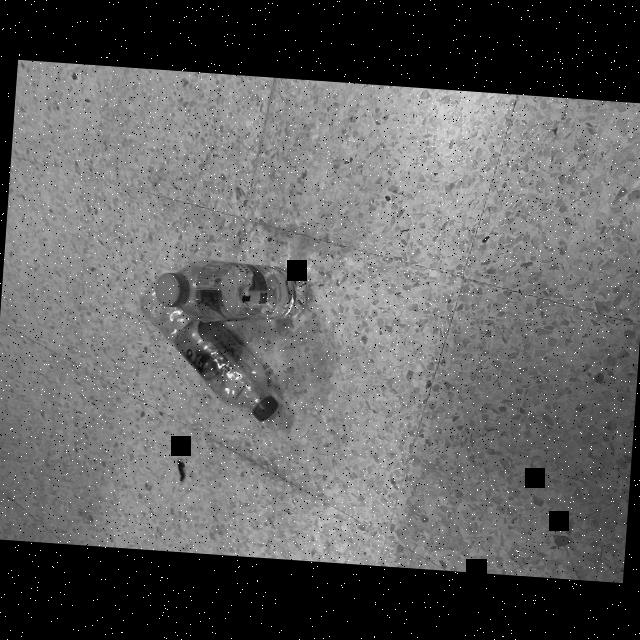plastic_bottle: (132, 276, 286, 419), (153, 252, 311, 328)
